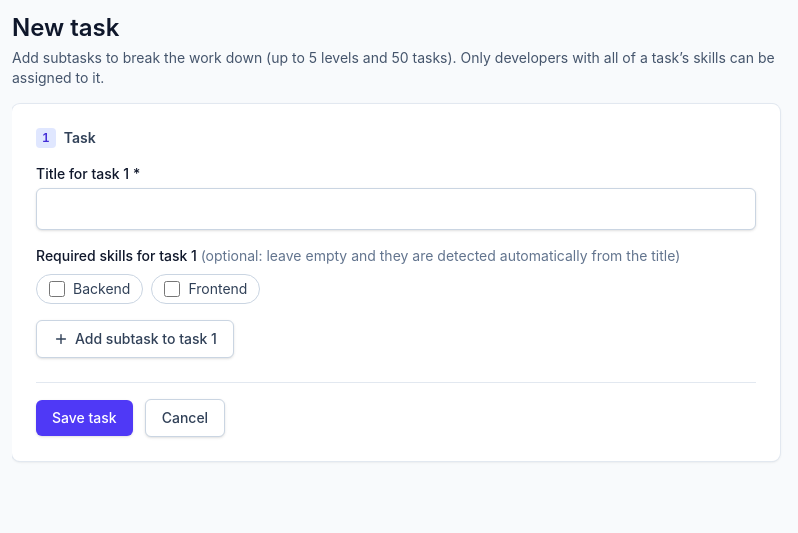
Test: TaskCreatePage › announces other server errors in the live region
Type "Homepage" into the field labelled "Title for task 1" at {"x": 396, "y": 209}, box [36,188,756,230]
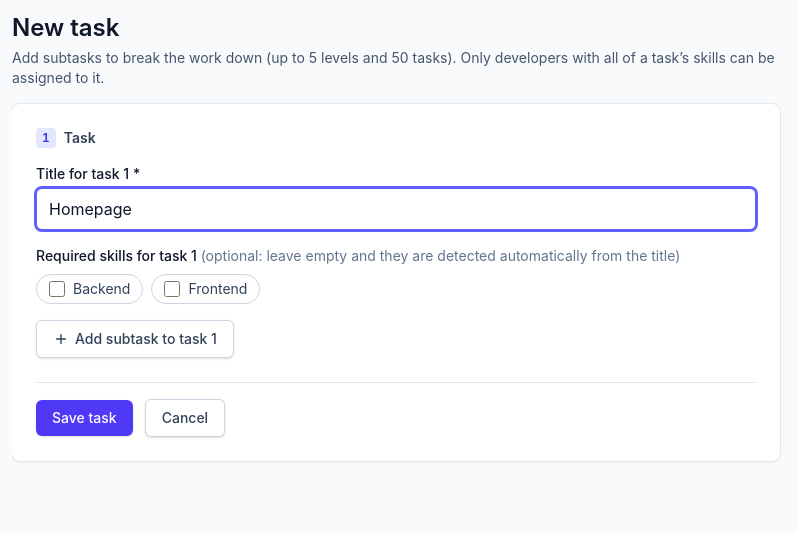
Click the button "Save task" at {"x": 84, "y": 418}, box [36,400,133,436]
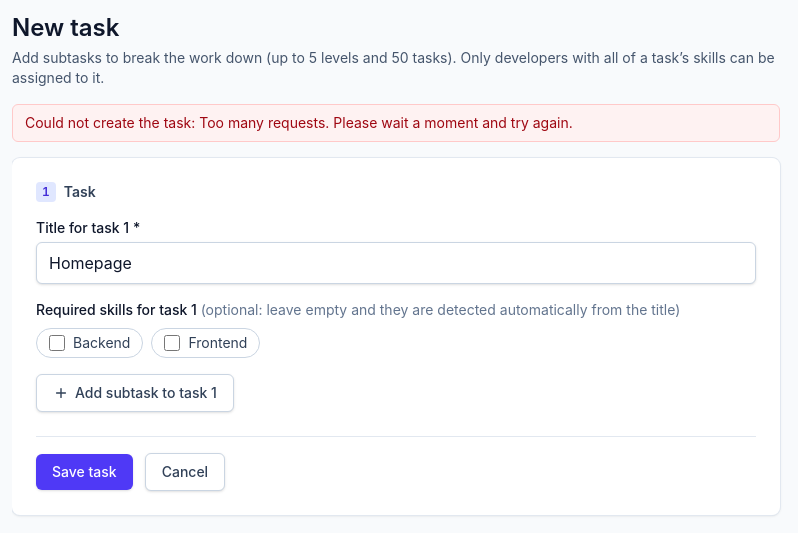
Expected: the message shows "Could not create the task: Too many requests. Please wait a moment and try again.", [25,114,573,131]
